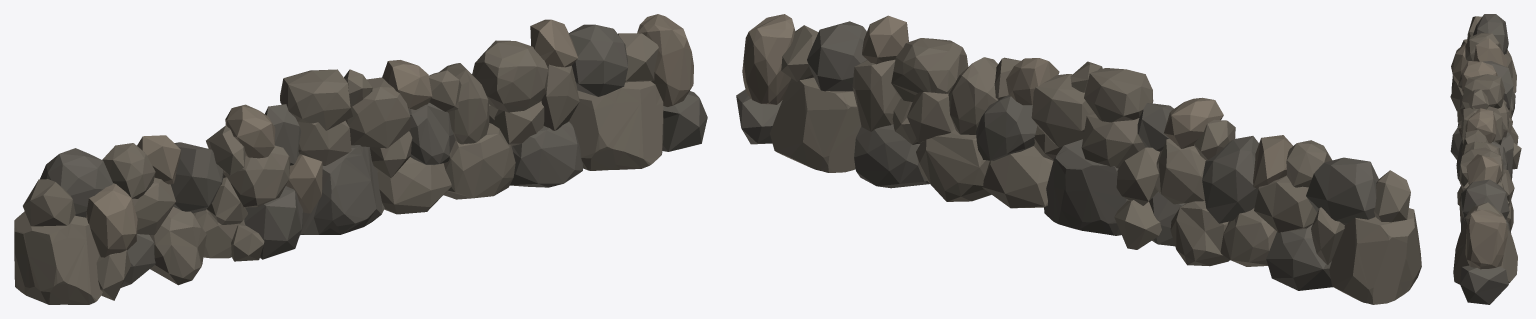
Rendered from rock_wall.glb.
3 views of the same model, side by side, from view 1: azimuth 30°, elevation 25°; view 2: azimuth 150°, elevation 25°; view 3: azimuth 270°, elevation 25° (orthographic). The views are drawn at different scales.
Visible parts, largest first — view 1: SM_Prop_Stonewall_Long_01_LOD0; view 2: SM_Prop_Stonewall_Long_01_LOD0; view 3: SM_Prop_Stonewall_Long_01_LOD0.
Part boxes in pixels (box(x1,y1,x2,y2)): SM_Prop_Stonewall_Long_01_LOD0: box(14, 14, 707, 304); SM_Prop_Stonewall_Long_01_LOD0: box(736, 14, 1421, 304); SM_Prop_Stonewall_Long_01_LOD0: box(1450, 14, 1521, 304).
Size of what is drawn, in the model's own units: 5.37 by 1.24 by 0.7242.
1 material, 1 textured.
